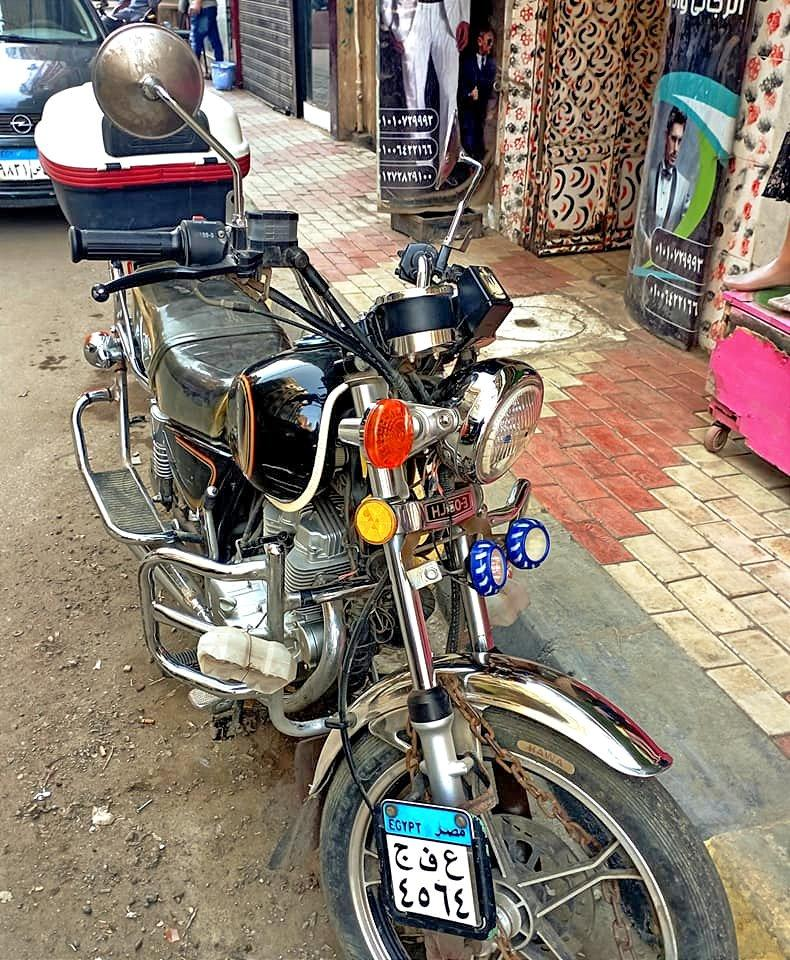License Plate: (379, 798, 488, 926), (0, 145, 47, 185)
